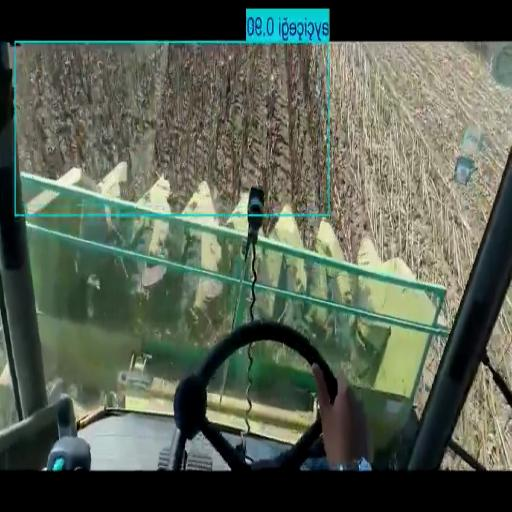ayc: (24, 45, 327, 215)
